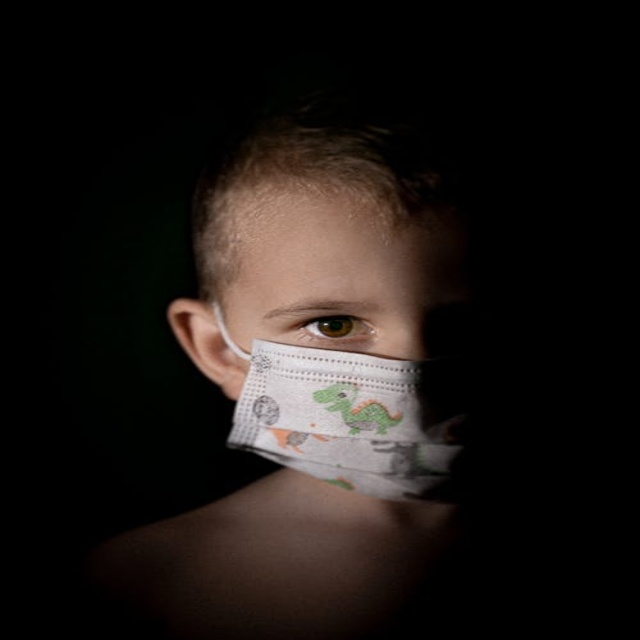Mascara: (216, 302, 474, 502)
Sin_gafas: (228, 287, 398, 346)
